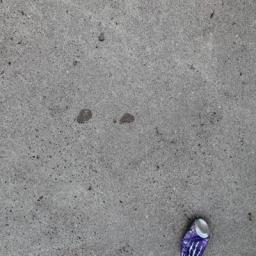FOD: (178, 213, 213, 256)
